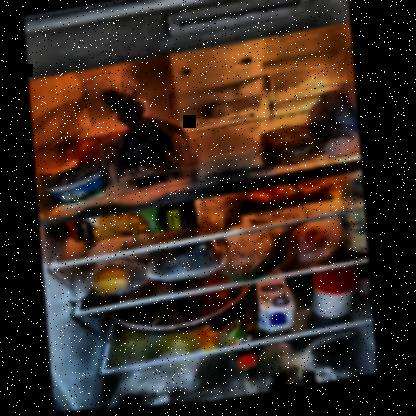broccoli: (150, 241, 227, 282)
butter: (261, 126, 326, 168)
carrot: (229, 180, 334, 222)
cheese: (197, 132, 258, 171)
green_chillies: (221, 237, 299, 289)
lemon: (91, 263, 135, 300)
milk: (256, 281, 297, 338)
tomato: (294, 225, 338, 260)
yoghurt: (42, 164, 106, 207)
